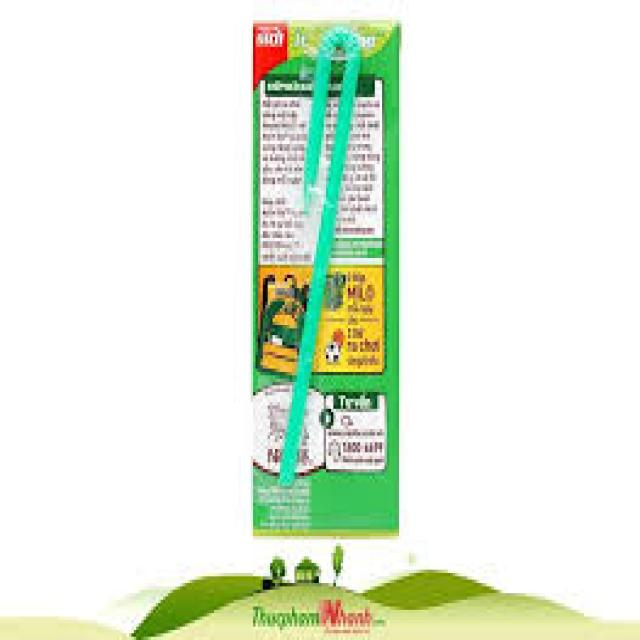sua milo: (242, 9, 413, 556)
